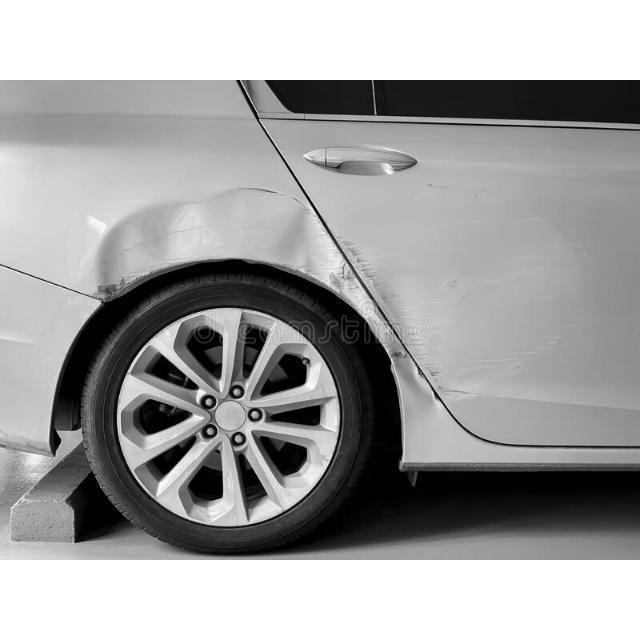doorouter-dent: (313, 126, 640, 376)
quaterpanel-dent: (0, 176, 316, 380)
